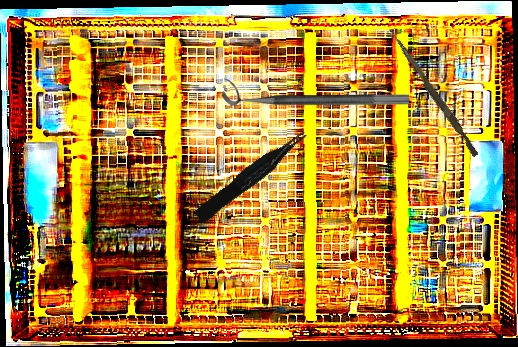Fixation Ring: (222, 78, 409, 106)
Pusher: (387, 32, 482, 158)
Tissue Forceps: (190, 128, 315, 224)
